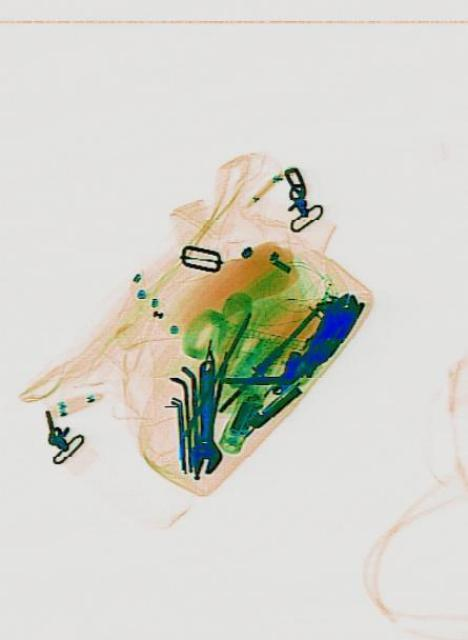Wrench: (186, 358, 221, 476)
